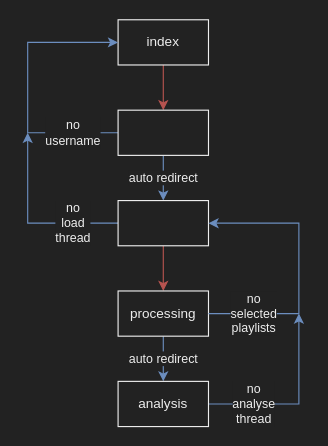
The diagram is 328 pixels wide and 446 high, and some of its shapes have lost their labels. The shapes that lost their labels are listed below. From the top down, each one's centre as x and y in pixels, then its label:
point (162, 132): loading
point (162, 222): playlists
